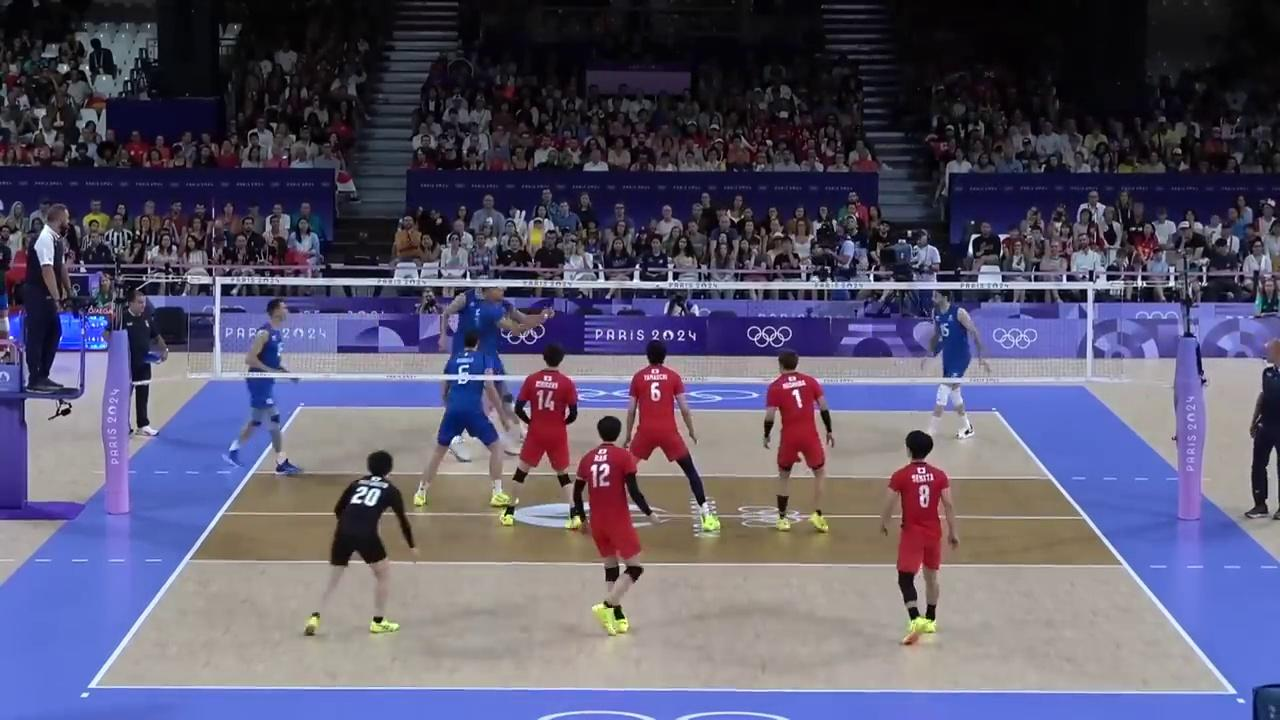ball: (528, 229, 543, 247)
